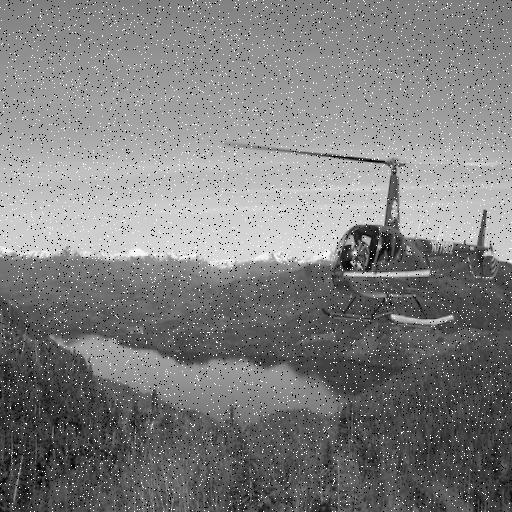helicopter: (223, 140, 512, 326)
